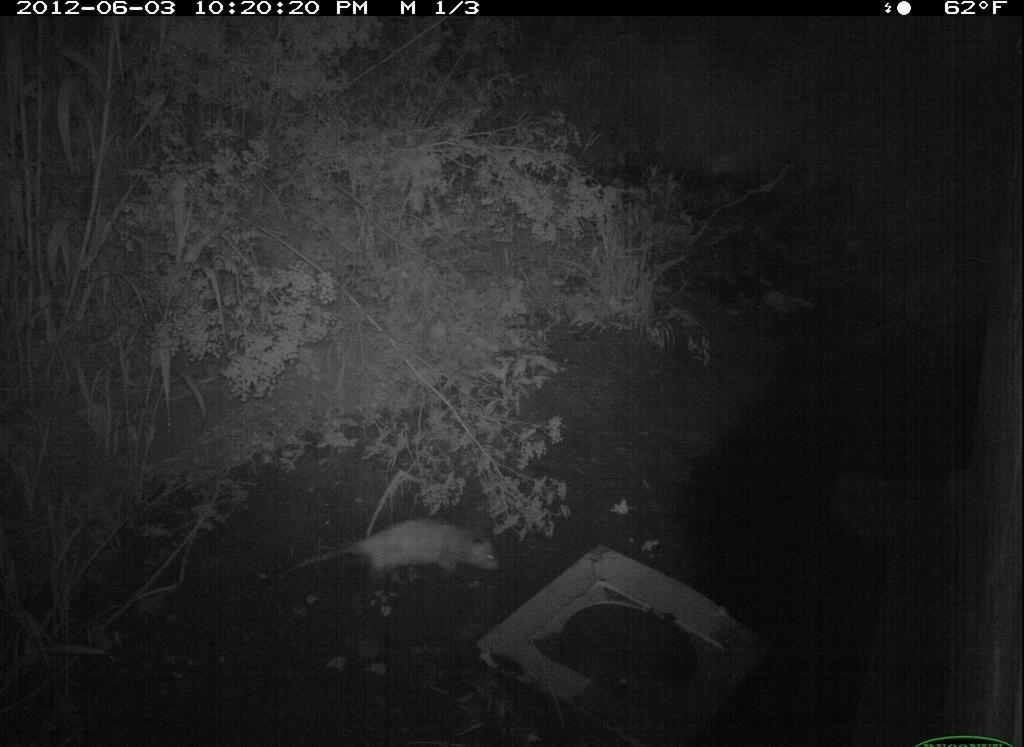opossum: (290, 514, 506, 605)
